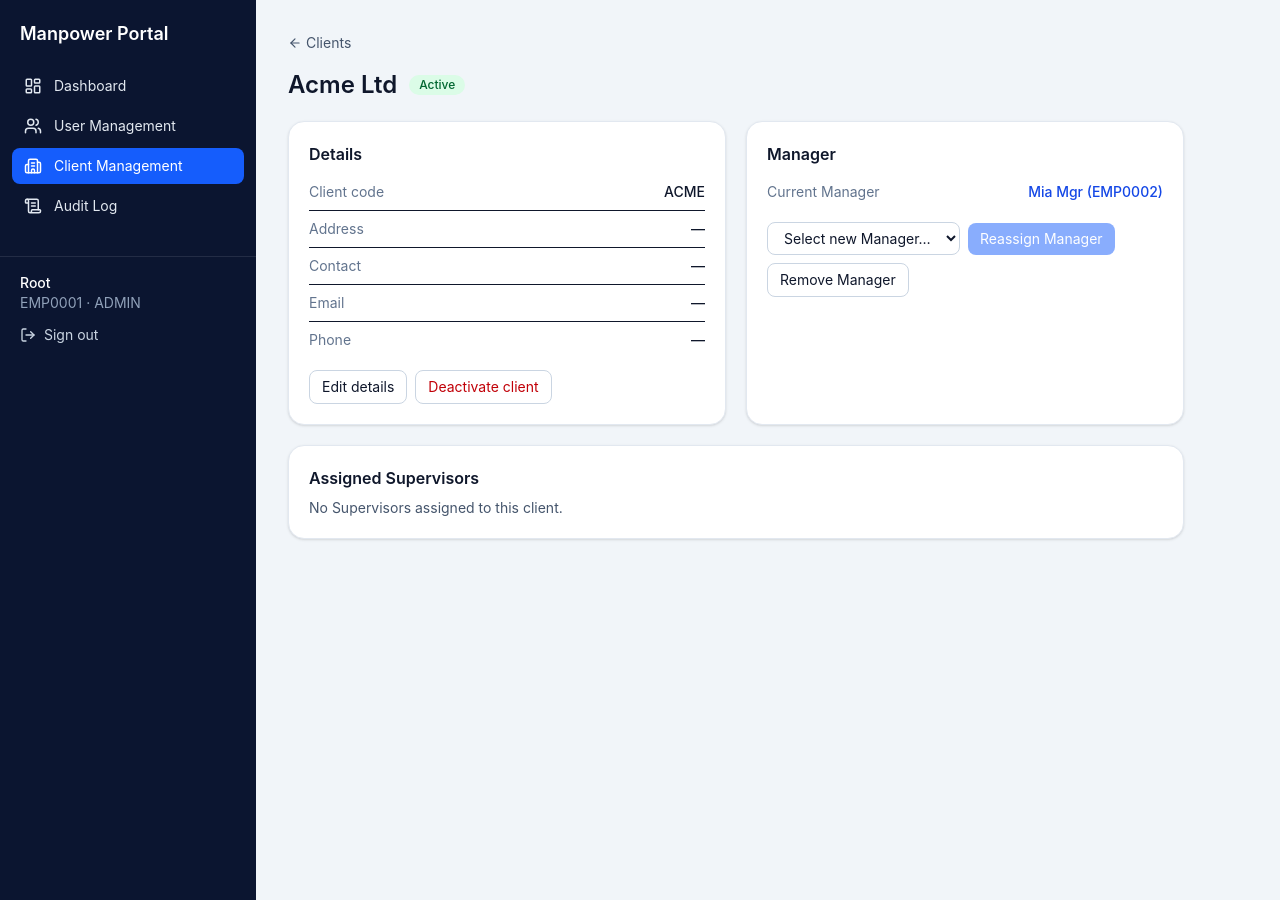
Test: client detail › blocked reassignment names the affected Supervisors
Step 1. Select "Noah Mgr (EMP0003)" in the dropdown named "Manager" → (864, 238), box x1=767 y1=222 x2=960 y2=255
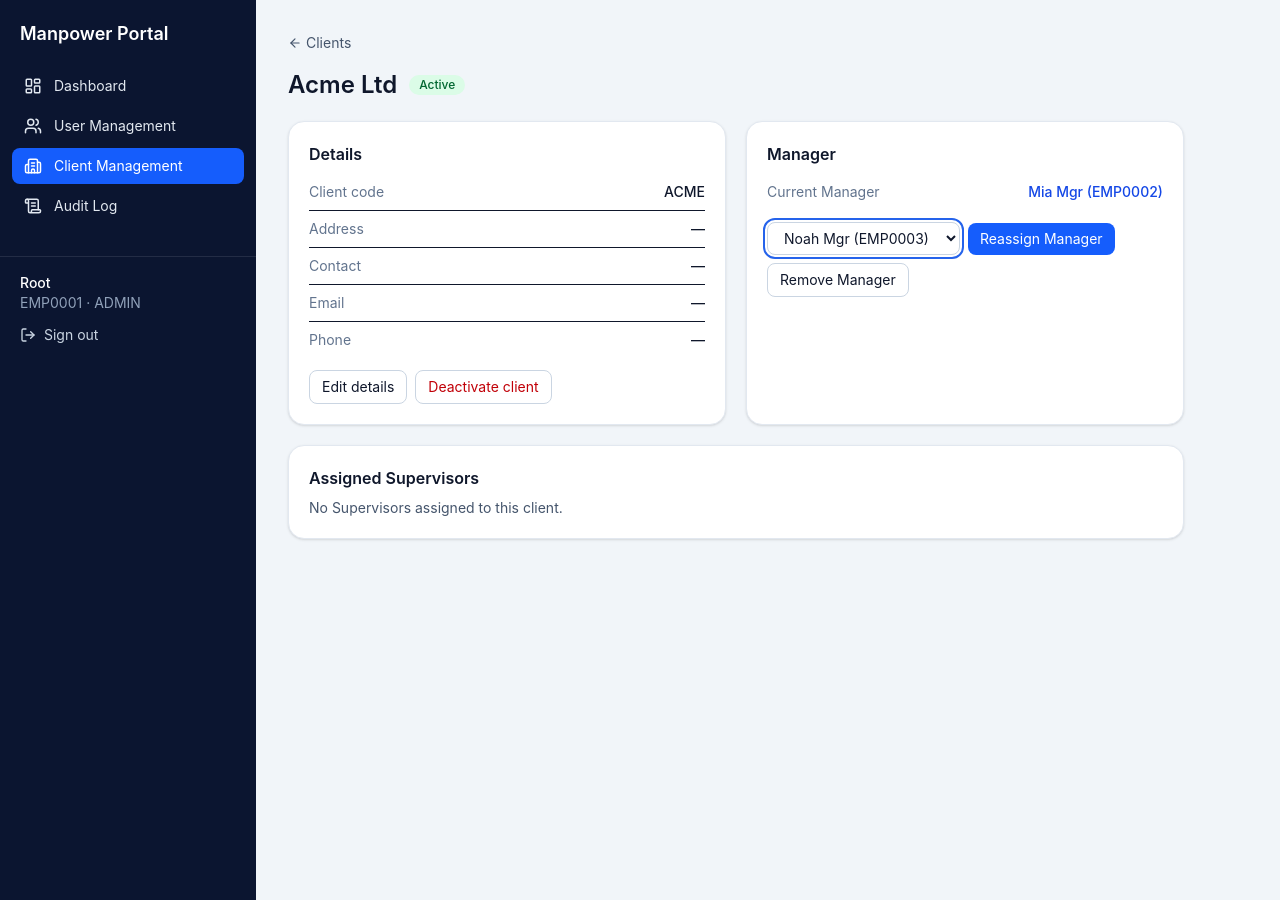
Step 2. Click the button "Reassign Manager" → (1041, 238), box x1=968 y1=222 x2=1115 y2=254
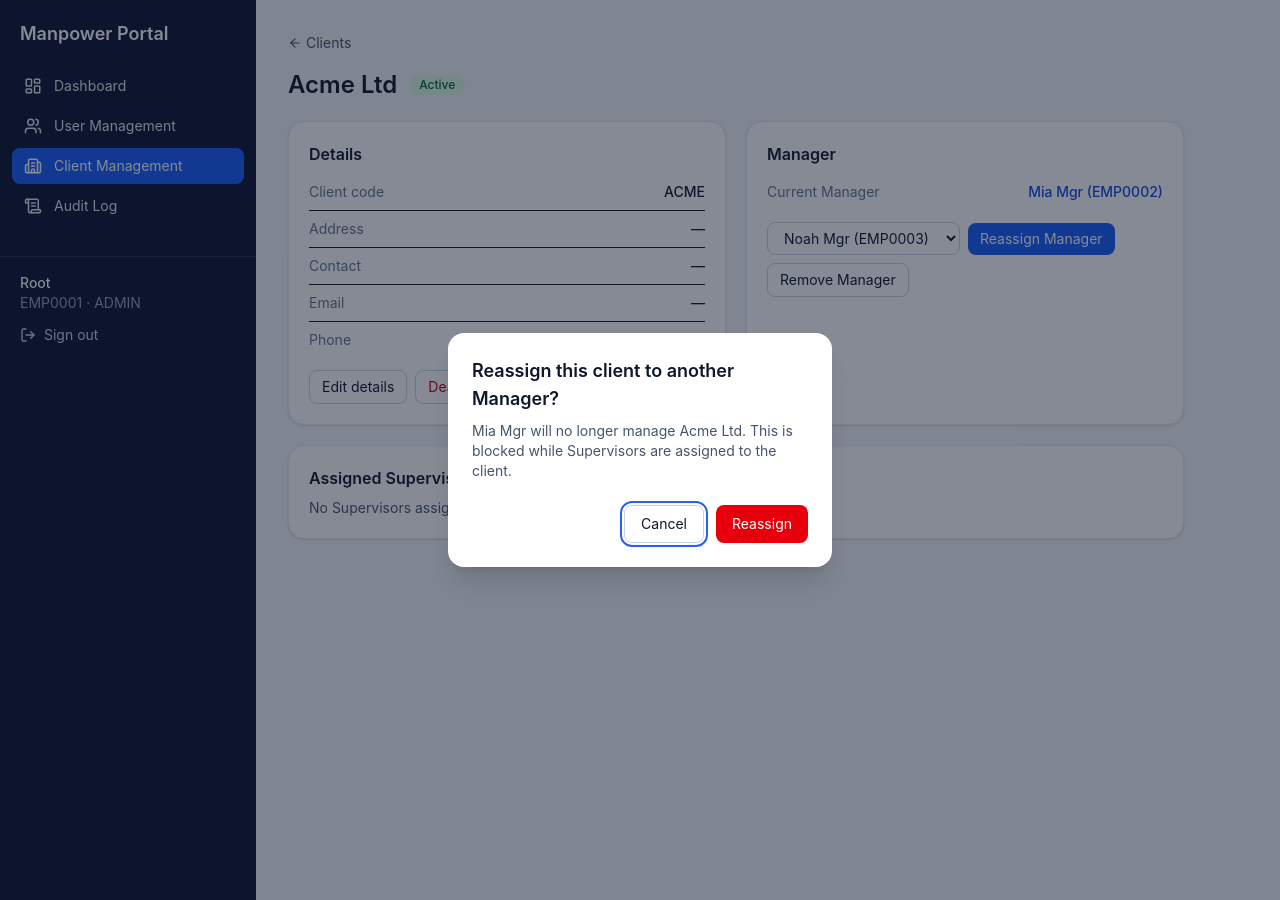
Step 3. Click the button "Reassign" → (762, 524), box x1=716 y1=505 x2=808 y2=543
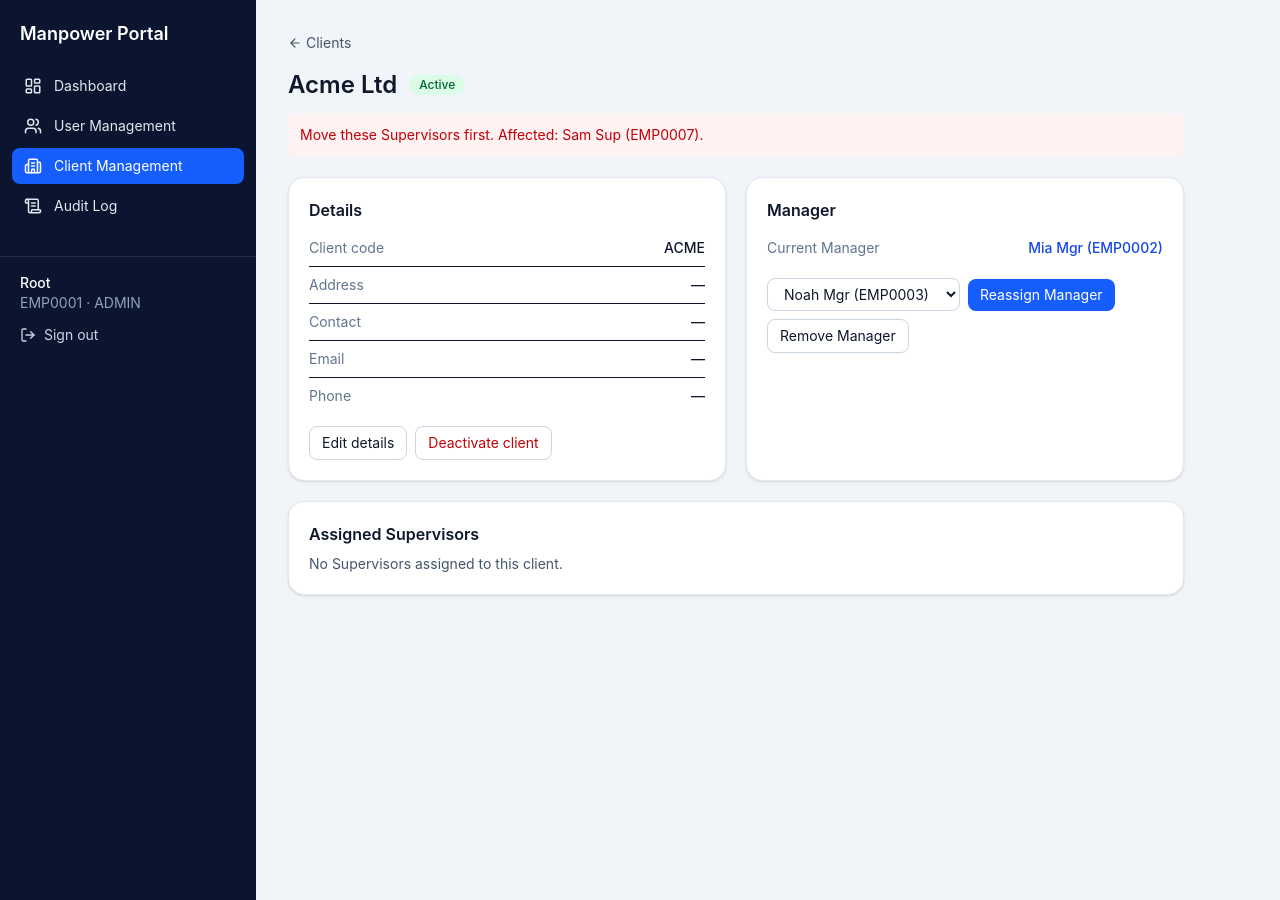
Result: the message shows "Sam Sup (EMP0007)" at x1=300 y1=126 x2=704 y2=143
